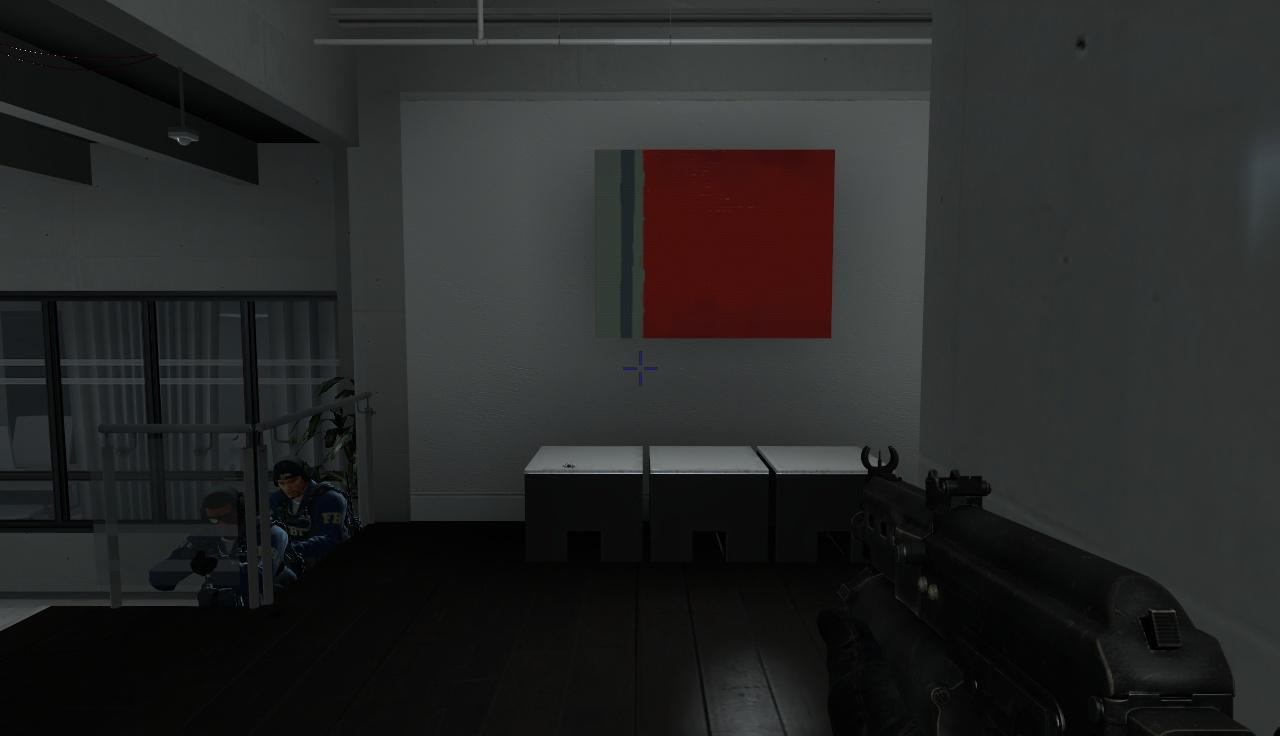ct: (192, 483, 290, 600), (270, 457, 347, 541)
cthead: (201, 489, 243, 534), (274, 457, 308, 499)
rifle: (825, 441, 1239, 736)
